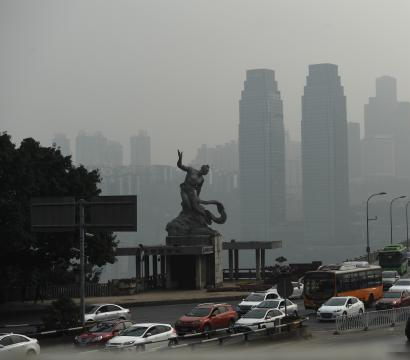bus: (296, 261, 383, 311), (377, 244, 408, 276)
car: (105, 322, 177, 355), (174, 303, 235, 335), (72, 320, 133, 350), (233, 307, 288, 335), (316, 295, 363, 322), (73, 302, 130, 324), (1, 331, 42, 358), (238, 291, 280, 315), (374, 288, 409, 310), (264, 281, 306, 299), (376, 270, 398, 289), (387, 279, 409, 296)
